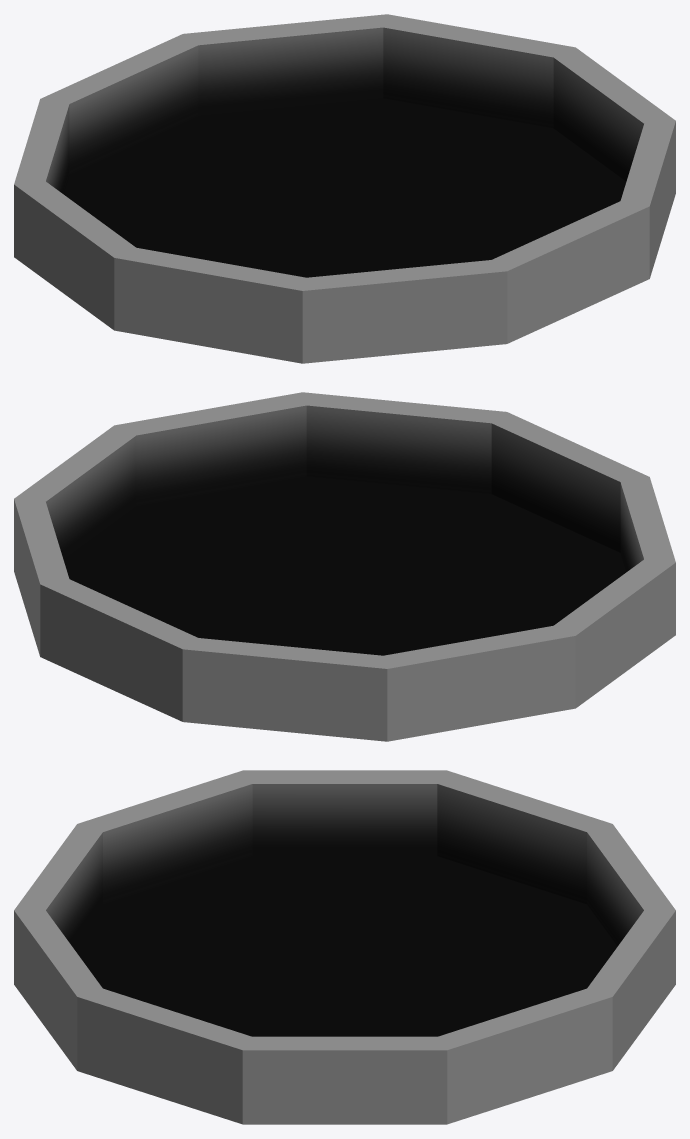
Rendered from hole.fbx.
3 views of the same model, one above another, from view 1: azimuth 30°, elevation 25°; view 2: azimuth 150°, elevation 25°; view 3: azimuth 270°, elevation 25° (orthographic). The views are drawn at different scales.
Visible parts, largest first — view 1: Cylinder; view 2: Cylinder; view 3: Cylinder.
Boxes of the visible parts, x1,y1,x2,y2 form: Cylinder: (14,14,675,363); Cylinder: (14,392,675,741); Cylinder: (14,770,675,1124).
Size of the model in its own units: 144 by 17.81 by 144.
